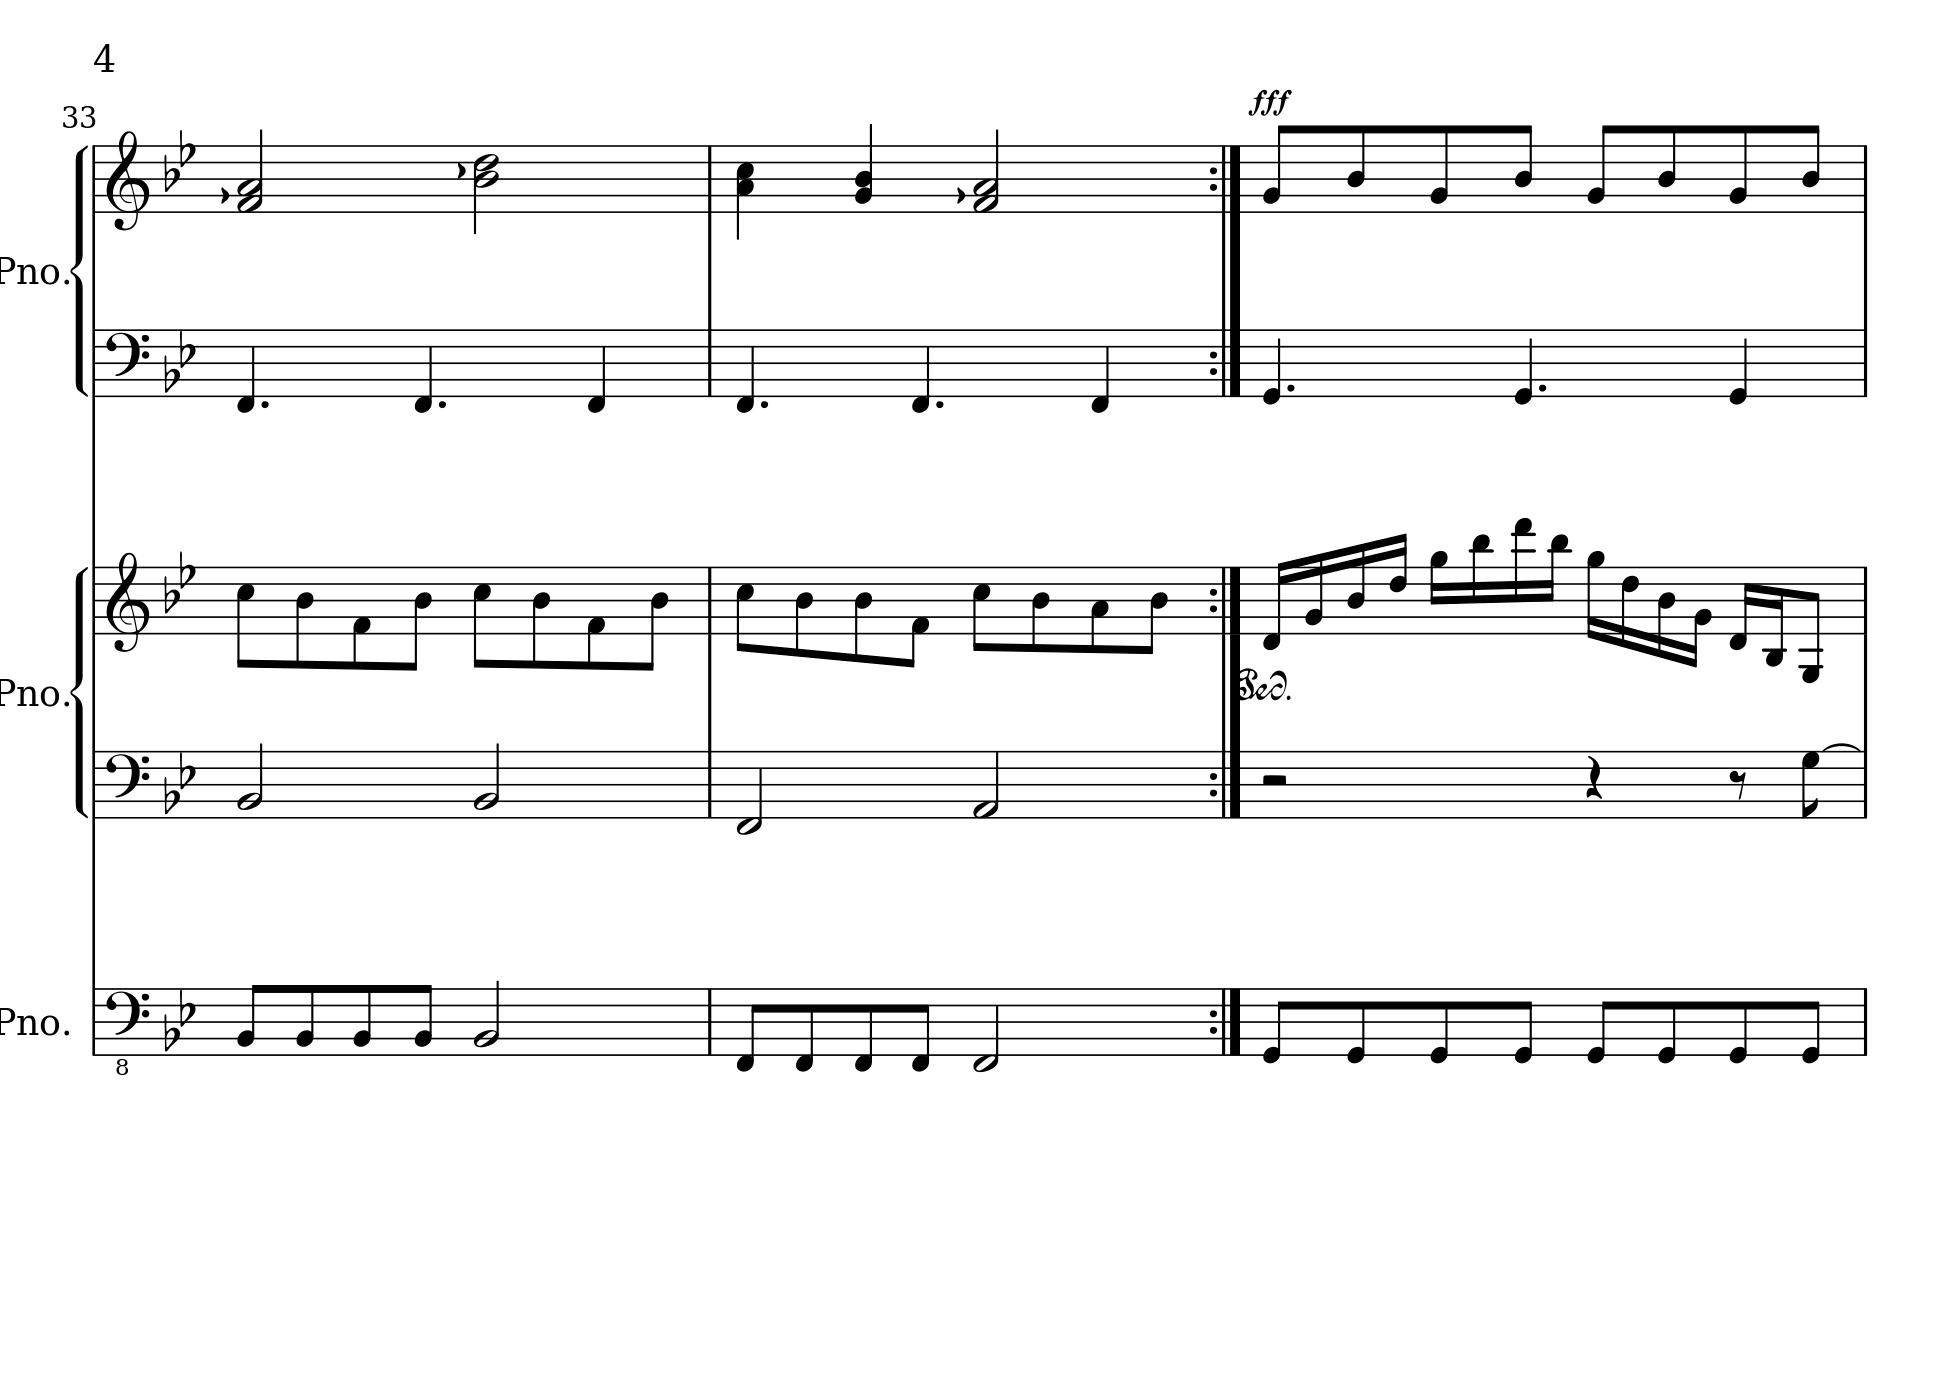16_-1: (1260, 559, 1290, 652), (1728, 564, 1755, 652)
16_-3: (1764, 565, 1786, 666)
16_11: (1542, 532, 1572, 637), (1468, 532, 1494, 637)
16_13: (1510, 516, 1536, 637)
16_2: (1686, 565, 1713, 667), (1302, 550, 1326, 636)
16_4: (1345, 540, 1368, 636), (1656, 564, 1677, 661)
16_6: (1389, 529, 1410, 636), (1620, 562, 1641, 651)
16_9: (1428, 546, 1449, 636), (1585, 547, 1605, 643)
2_-1: (970, 985, 1000, 1072), (735, 747, 763, 835)
2_1: (972, 748, 1002, 820)
2_1_3: (970, 129, 1002, 214), (235, 129, 264, 214)
2_2: (235, 741, 265, 820), (472, 741, 502, 820), (472, 976, 502, 1054)
2_4_6: (471, 144, 501, 235)
3: (79, 103, 97, 129), (61, 103, 78, 129)
4: (93, 40, 115, 72)
4_-1: (583, 325, 607, 414), (733, 325, 756, 414), (1089, 327, 1111, 414)
4_0: (1261, 327, 1284, 406), (1513, 327, 1536, 406), (1728, 327, 1750, 406)
4_2_4: (853, 123, 874, 216)
4_3_5: (733, 144, 756, 241)
8_-1: (733, 985, 762, 1072), (411, 325, 435, 415), (907, 325, 931, 415), (234, 325, 256, 415), (793, 985, 816, 1072), (852, 985, 874, 1072), (909, 985, 931, 1072)
8_-5: (1798, 564, 1824, 685)
8_0: (1260, 985, 1290, 1065), (1584, 987, 1614, 1065), (1428, 985, 1452, 1066), (1512, 985, 1536, 1066), (1344, 985, 1368, 1065), (1656, 985, 1680, 1065), (1726, 985, 1750, 1065), (1800, 985, 1822, 1066)
8_1: (904, 565, 930, 670), (349, 565, 372, 673), (585, 565, 606, 673)
8_2: (1585, 121, 1614, 213), (1263, 123, 1290, 214), (1428, 121, 1452, 213), (1728, 121, 1752, 213), (235, 982, 264, 1054), (294, 982, 316, 1056), (351, 982, 373, 1056), (412, 982, 433, 1056)
8_3: (1089, 564, 1111, 655)
8_4: (642, 565, 669, 672), (406, 565, 432, 673), (1140, 565, 1168, 657), (852, 564, 874, 666), (294, 565, 315, 672), (1512, 123, 1536, 214), (1656, 123, 1680, 214), (1800, 121, 1822, 214), (531, 565, 550, 672), (1030, 564, 1053, 655), (1345, 124, 1368, 214), (793, 564, 814, 660)
8_5: (234, 564, 256, 670), (472, 564, 492, 669), (970, 564, 991, 652), (735, 564, 754, 654)
8_7: (1800, 748, 1822, 820)
B_F: (162, 327, 196, 393), (162, 547, 196, 613), (163, 985, 198, 1050), (163, 126, 196, 192), (163, 748, 196, 814)
Brace: (70, 559, 90, 823), (70, 142, 90, 399)
Fclef: (103, 327, 151, 397), (103, 748, 150, 820)
Gclef: (105, 127, 150, 231), (105, 550, 148, 654)
Lower_Fclef: (103, 985, 150, 1075)
Pno: (1, 252, 61, 286), (1, 673, 61, 708), (1, 1003, 58, 1039)
Rests2: (1258, 771, 1291, 789)
Rests4: (1584, 753, 1605, 802)
Rests8: (1728, 766, 1749, 799)
RightRepeatSign: (1206, 328, 1245, 396), (1207, 750, 1245, 817), (1207, 987, 1245, 1054), (1207, 145, 1245, 211), (1209, 565, 1245, 631)
Single_barline: (700, 145, 718, 211), (700, 330, 718, 396), (700, 567, 718, 633), (700, 988, 718, 1054), (1857, 328, 1873, 396), (87, 145, 103, 211), (1857, 145, 1873, 211), (702, 751, 718, 817), (1857, 751, 1873, 817), (1857, 988, 1873, 1054), (88, 565, 103, 633), (1858, 567, 1873, 633), (87, 988, 102, 1053), (88, 751, 102, 816), (88, 330, 102, 393)
Slur: (1824, 741, 1861, 751)
dot: (1284, 381, 1297, 393), (258, 397, 271, 409), (435, 397, 448, 409), (757, 397, 771, 409), (933, 397, 946, 409), (1536, 381, 1548, 393)
fff: (1248, 87, 1293, 117)
